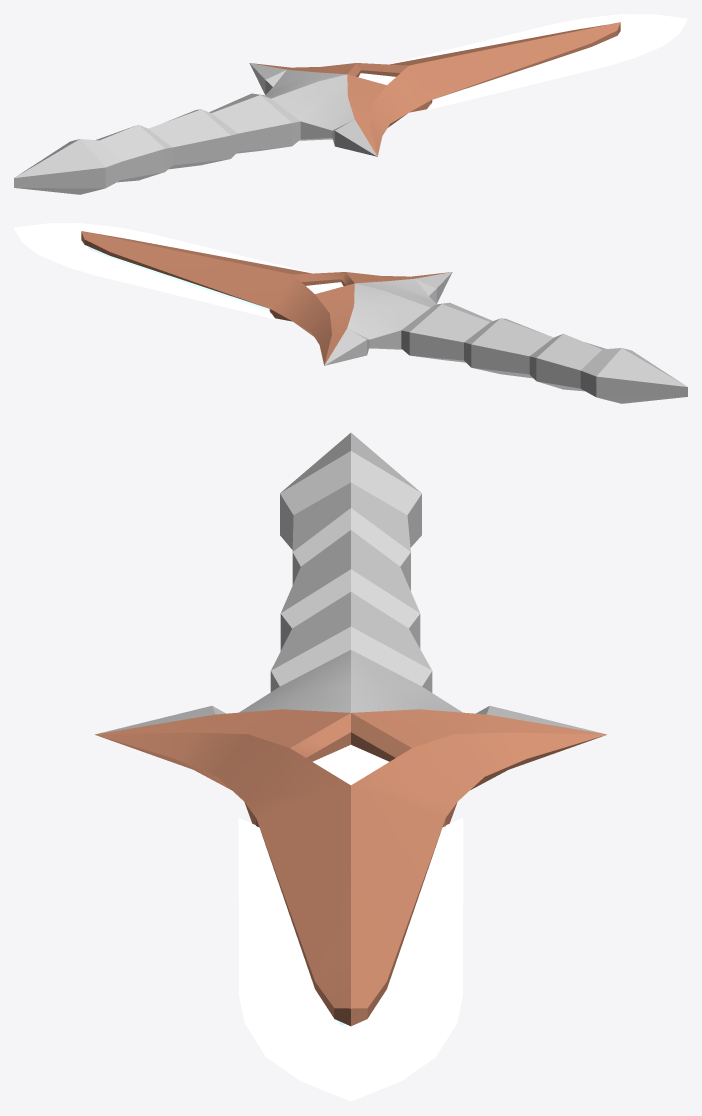
File: weap1_thrown.fbx
3 views of the same model, one above another, from view 1: azimuth 30°, elevation 25°; view 2: azimuth 150°, elevation 25°; view 3: azimuth 270°, elevation 25° (orthographic). The views are drawn at different scales.
Visible parts, largest first — view 1: weap1_thrown; view 2: weap1_thrown; view 3: weap1_thrown.
Boxes of the visible parts, x1=… form: weap1_thrown: x1=14, y1=14, x2=687, y2=194; weap1_thrown: x1=14, y1=223, x2=687, y2=403; weap1_thrown: x1=95, y1=433, x2=606, y2=1101.
Size of the model in its own units: 28.47 by 2.26 by 9.39.
